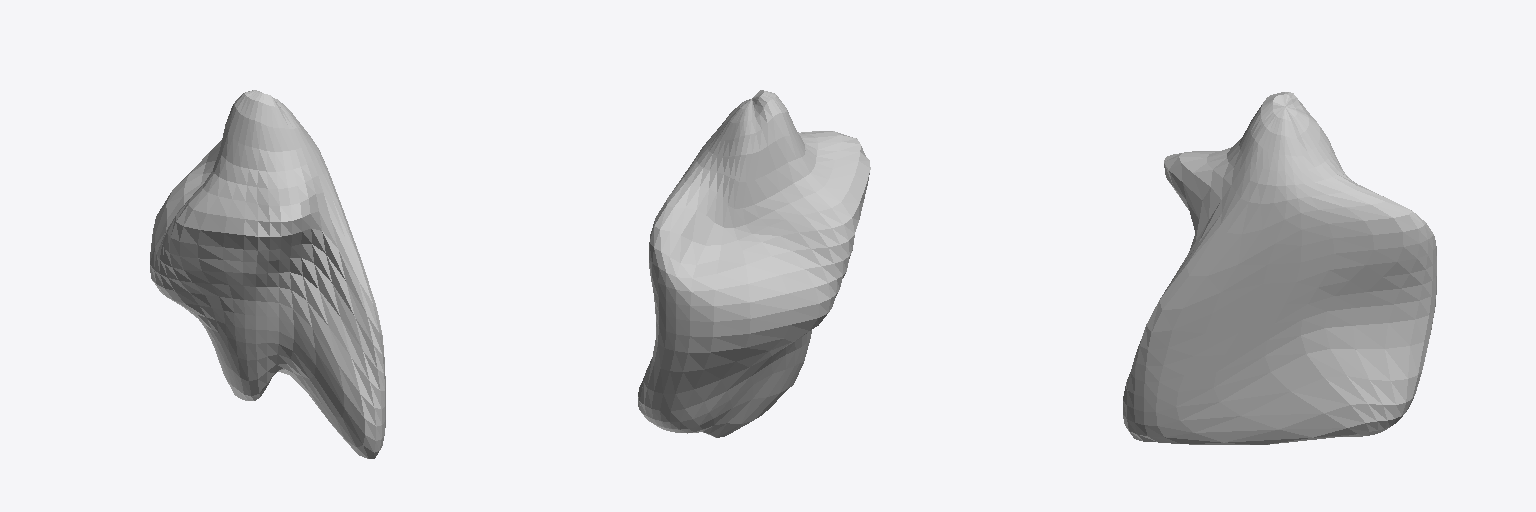
File: blob3.obj
3 views of the same model, side by side, from view 1: azimuth 30°, elevation 25°; view 2: azimuth 150°, elevation 25°; view 3: azimuth 270°, elevation 25° (orthographic).
Parts seen in each view (by area): view 1: Capsule.1; view 2: Capsule.1; view 3: Capsule.1.
Part boxes in pixels (bbox=[...]): Capsule.1: bbox=[150, 90, 385, 458]; Capsule.1: bbox=[638, 90, 870, 437]; Capsule.1: bbox=[1123, 92, 1436, 444].
Size of the model in its own units: 259 by 480 by 420.